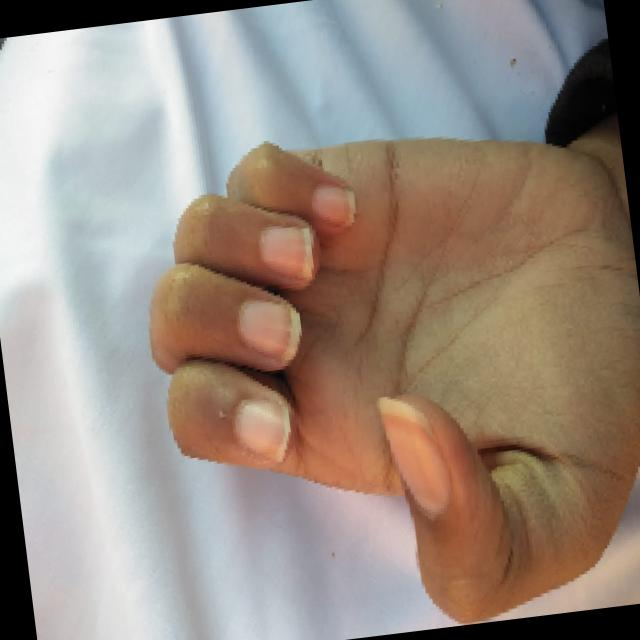Nail: (378, 396, 451, 516), (238, 299, 301, 360), (234, 394, 291, 458), (258, 225, 313, 276), (311, 181, 355, 222)
